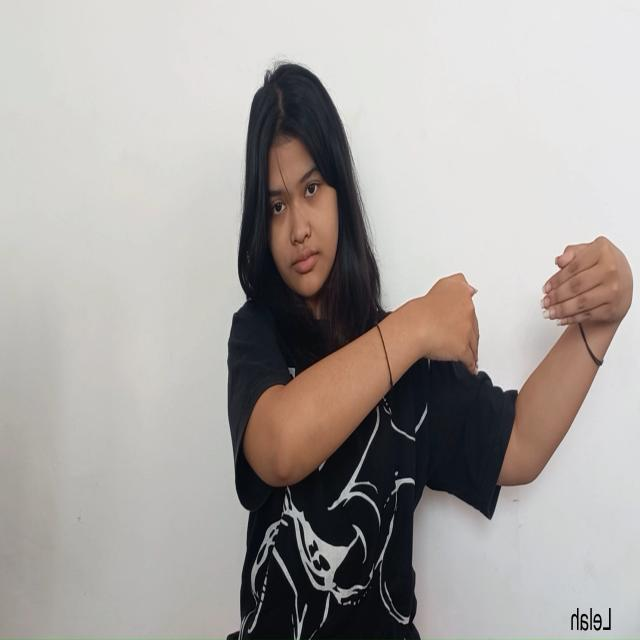Lelah -BISINDO-: (408, 232, 634, 378)
